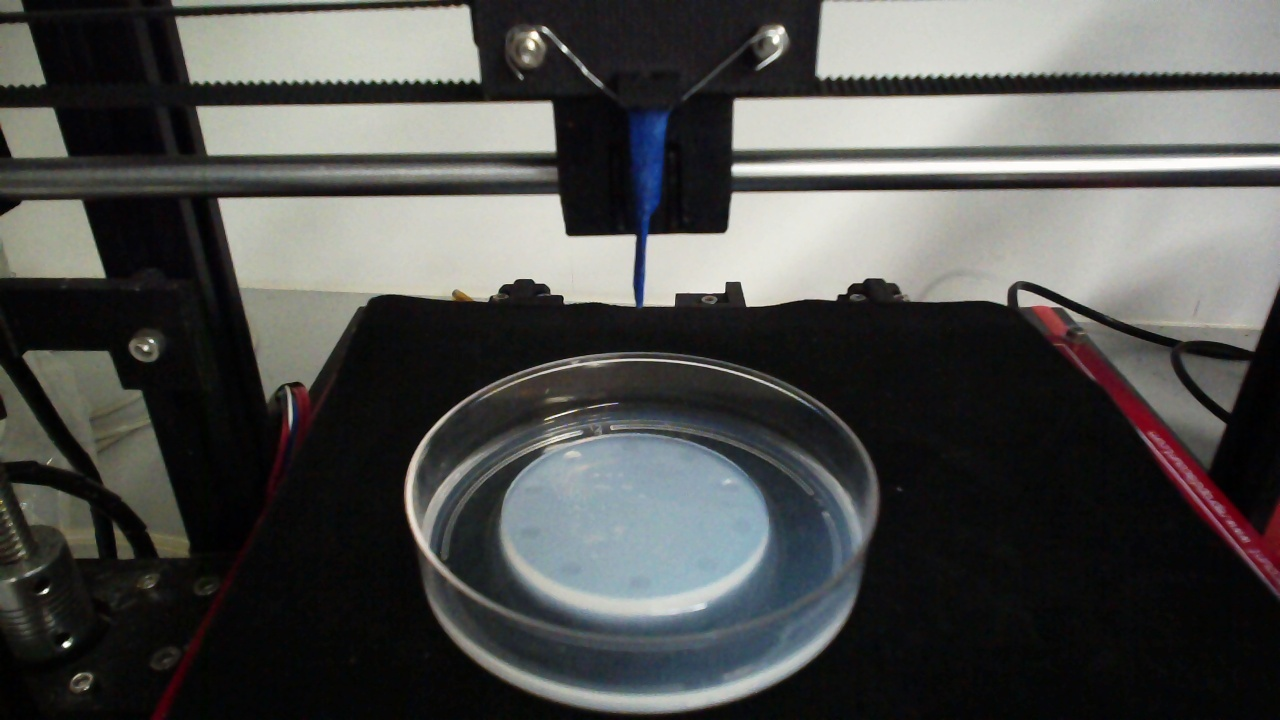groove: (554, 559, 583, 579), (693, 554, 721, 574), (728, 518, 754, 539), (515, 524, 540, 542), (719, 475, 742, 494), (628, 572, 652, 590), (675, 448, 699, 465), (521, 482, 546, 498), (618, 440, 642, 456), (560, 450, 581, 465)
needle: (632, 112, 668, 312)
